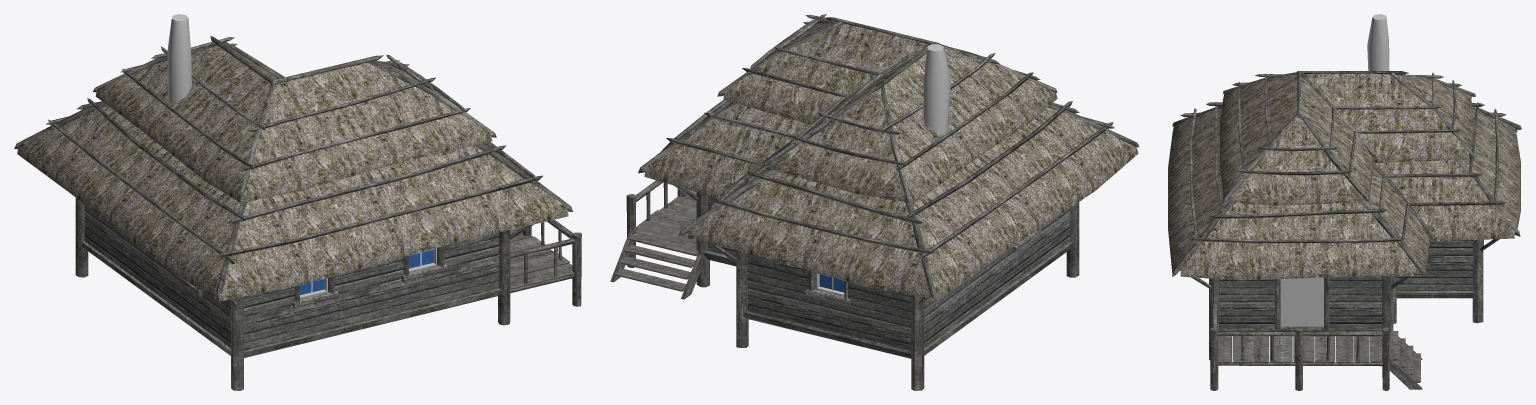
The model's file is mw_type_3_cottage_03_LOD1.FBX.
The picture shows the model from 3 angles, left to right: view 1: azimuth 30°, elevation 25°; view 2: azimuth 150°, elevation 25°; view 3: azimuth 270°, elevation 25°; orthographic projection. The views are drawn at different scales.
Visible parts, largest first — view 1: mw_type_3_cottage_03_roof, mw_type_3_cottage_03_wood, mw_type_3_cottage_03; view 2: mw_type_3_cottage_03_roof, mw_type_3_cottage_03_wood, mw_type_3_cottage_03; view 3: mw_type_3_cottage_03_roof, mw_type_3_cottage_03_wood, mw_type_3_cottage_03.
Boxes of the visible parts, <box> form: mw_type_3_cottage_03_roof: <box>17,45,568,301</box>; mw_type_3_cottage_03_wood: <box>14,36,581,390</box>; mw_type_3_cottage_03: <box>167,14,436,298</box>; mw_type_3_cottage_03_roof: <box>644,23,1138,300</box>; mw_type_3_cottage_03_wood: <box>610,14,1139,390</box>; mw_type_3_cottage_03: <box>816,44,950,295</box>; mw_type_3_cottage_03_roof: <box>1168,73,1520,280</box>; mw_type_3_cottage_03_wood: <box>1172,71,1521,390</box>; mw_type_3_cottage_03: <box>1280,14,1389,326</box>.
Bounding box in the file's own units: 1443 × 1020 × 1323.
